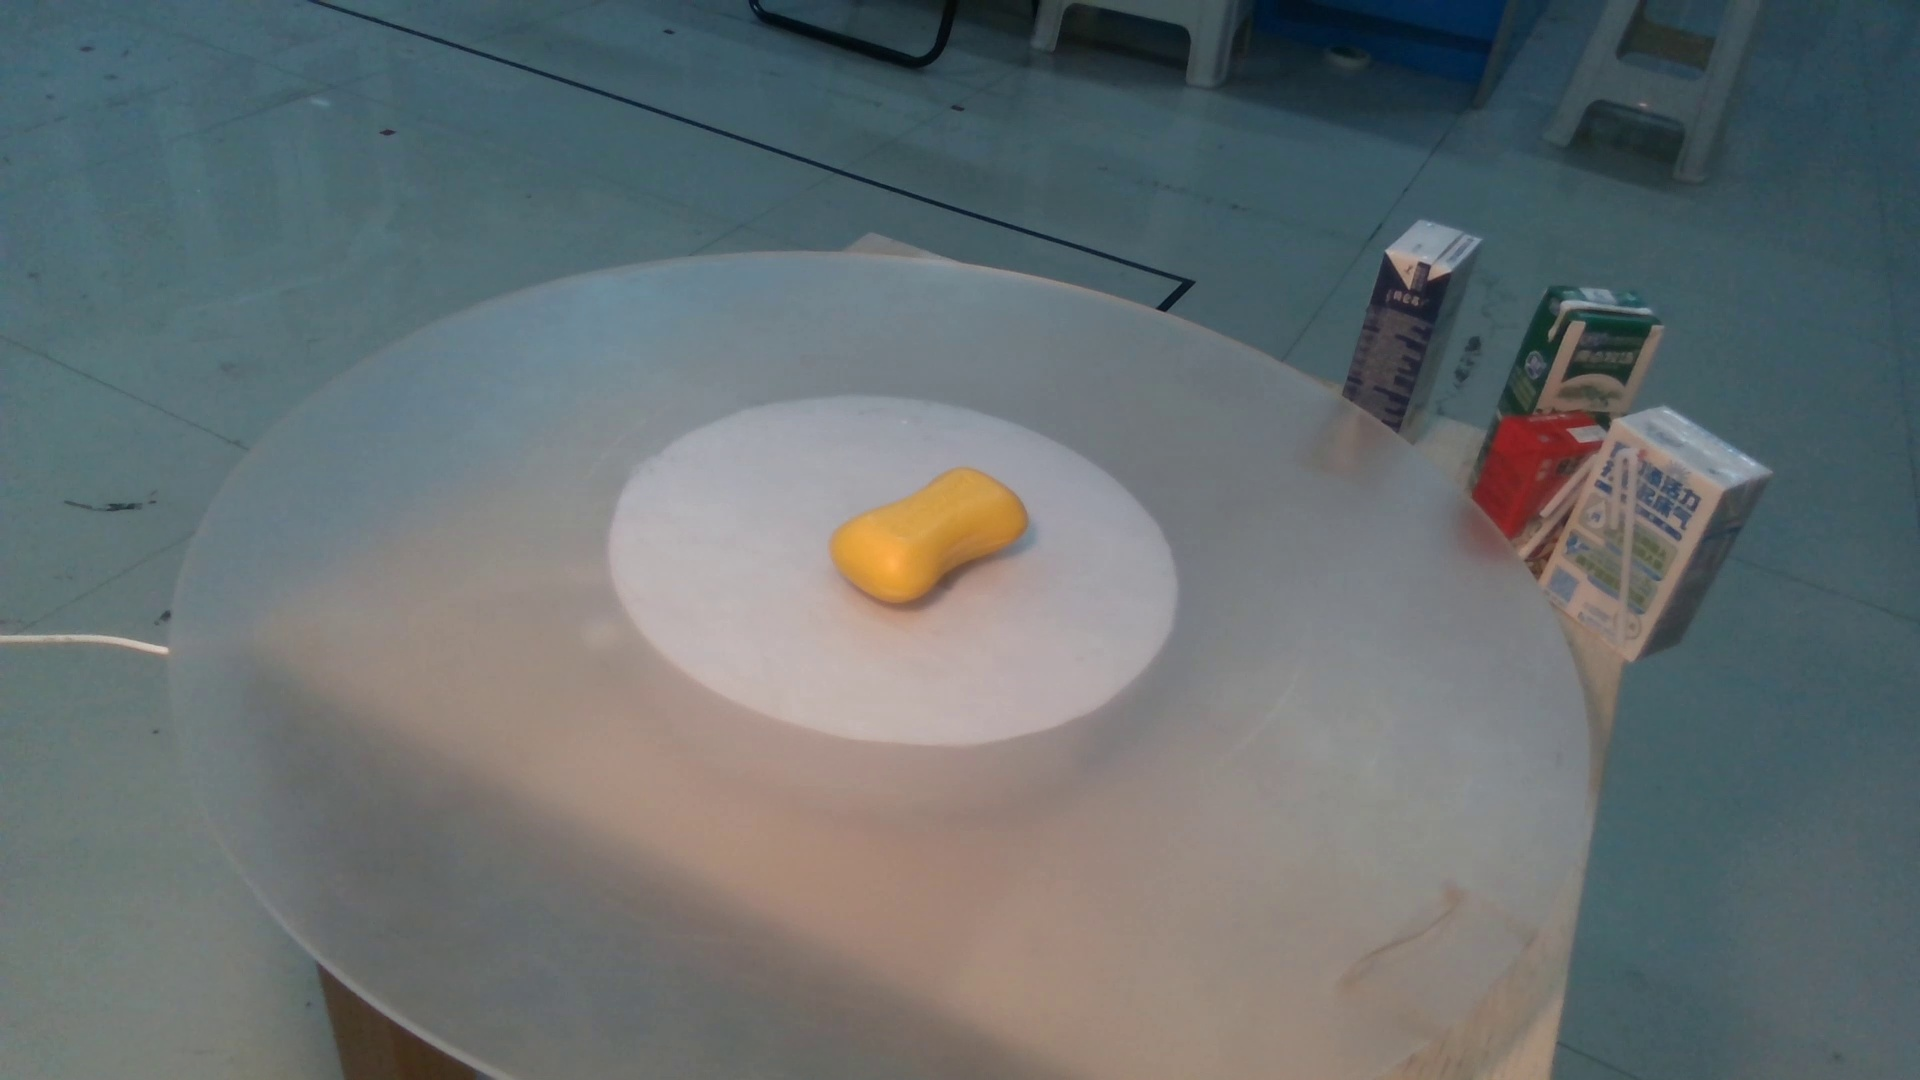CA003_1: (815, 444, 1040, 611)
